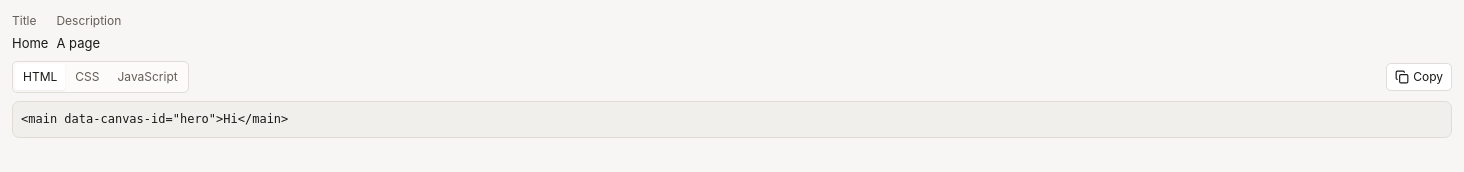
Code View › shows the active page's HTML, CSS and JavaScript read-only and never as an editor
Expected: the element named "Generated source" is shown, [12,61,189,93]
Expected: the text "<main data-canvas-id=\"hero\">Hi</main>" is shown, [21,112,288,126]
Switching tabs reveals CSS.
Click the tab "CSS": (87, 77) [67,64,108,90]
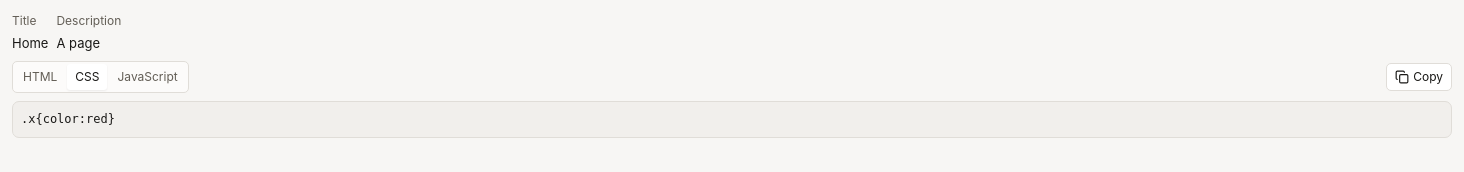
Result: the text ".x{color:red}" is shown at [21,112,115,126]
